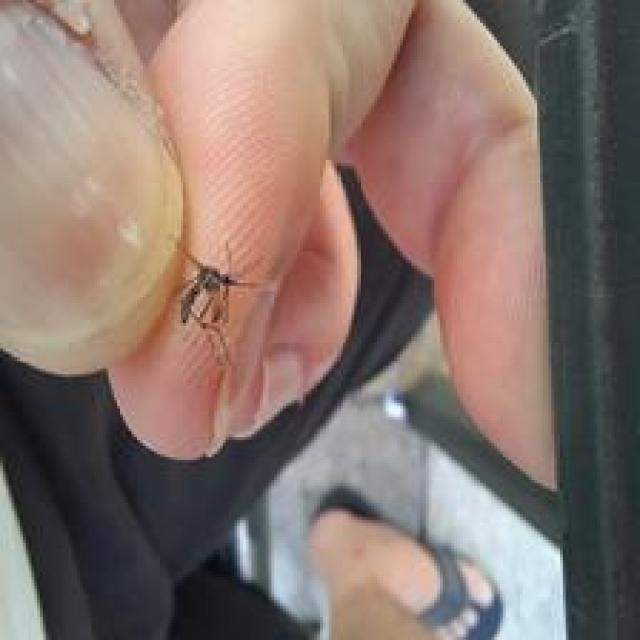Aedes albopictus: (174, 240, 266, 369)
